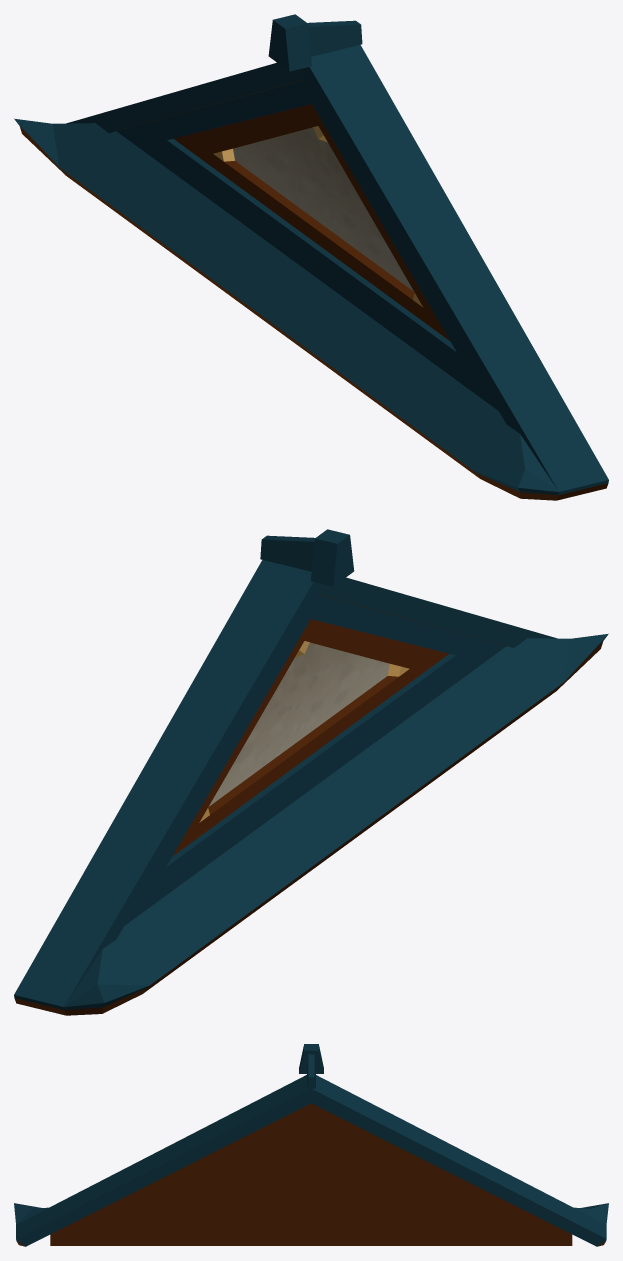
Rendered from Bld_Dojo_Roof_End_low.fbx.
3 views of the same model, one above another, from view 1: azimuth 30°, elevation 25°; view 2: azimuth 150°, elevation 25°; view 3: azimuth 270°, elevation 25° (orthographic). The views are drawn at different scales.
Parts seen in each view (by area): view 1: Bld_Dojo_Roof_End_low; view 2: Bld_Dojo_Roof_End_low; view 3: Bld_Dojo_Roof_End_low.
Boxes of the visible parts, x1,y1,x2,y2 form: Bld_Dojo_Roof_End_low: (14, 14, 608, 500); Bld_Dojo_Roof_End_low: (14, 529, 608, 1015); Bld_Dojo_Roof_End_low: (14, 1044, 608, 1246).
Bounding box in the file's own units: 247 × 777 × 2331.
